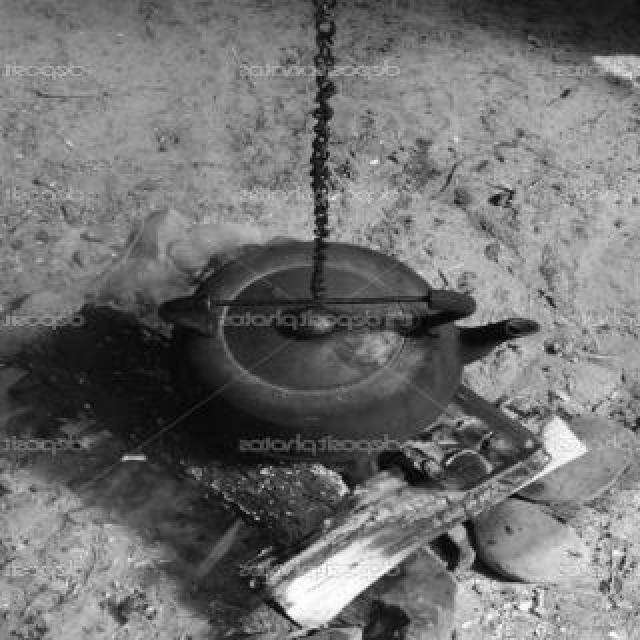Fire: (136, 270, 212, 346)
